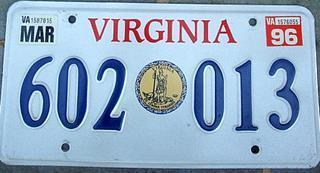placa de veiculo: (8, 4, 311, 163)
